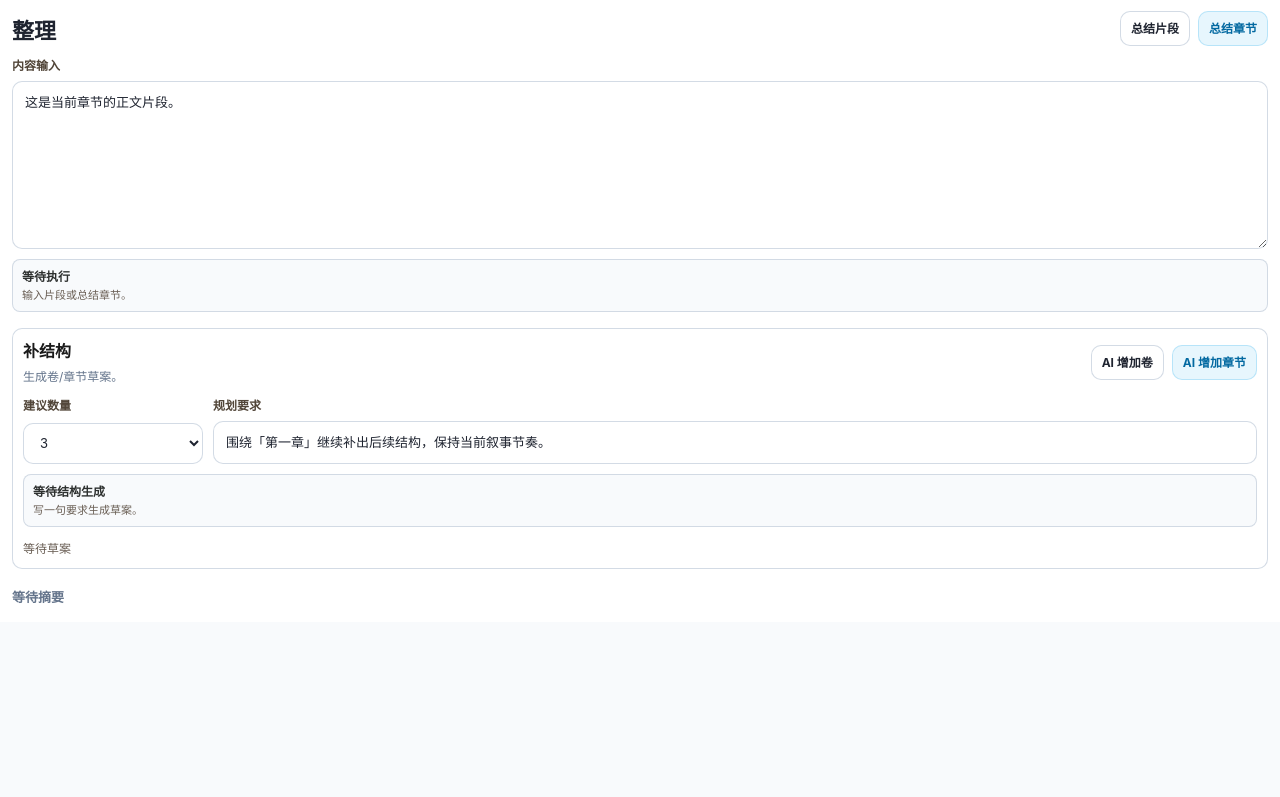
Scenario: SummaryWorkbenchTool › falls back to selection summary when chapter summary is unavailable but seed text exists
Click the button with class "tool-panel__primary" showing "总结章节": (1233, 29) top-left (1198, 11), bottom-right (1268, 46)
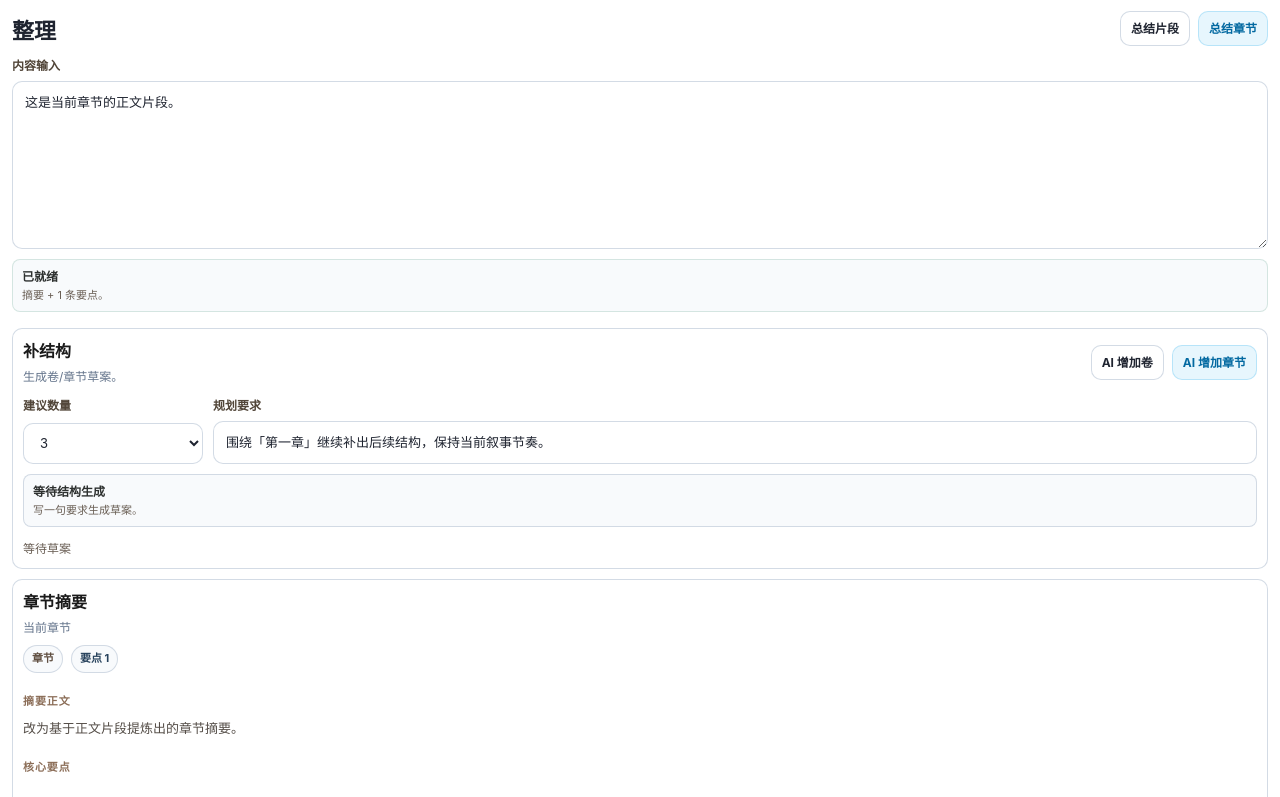
Expected: the text "改为基于正文片段提炼出的章节摘要。" is shown, top-left (23, 720), bottom-right (244, 736)
